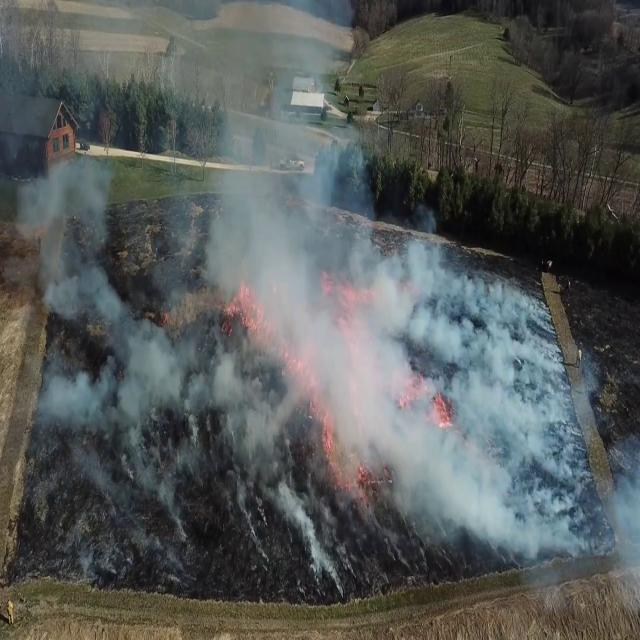Smoke: (14, 1, 372, 584), (338, 190, 592, 566)
